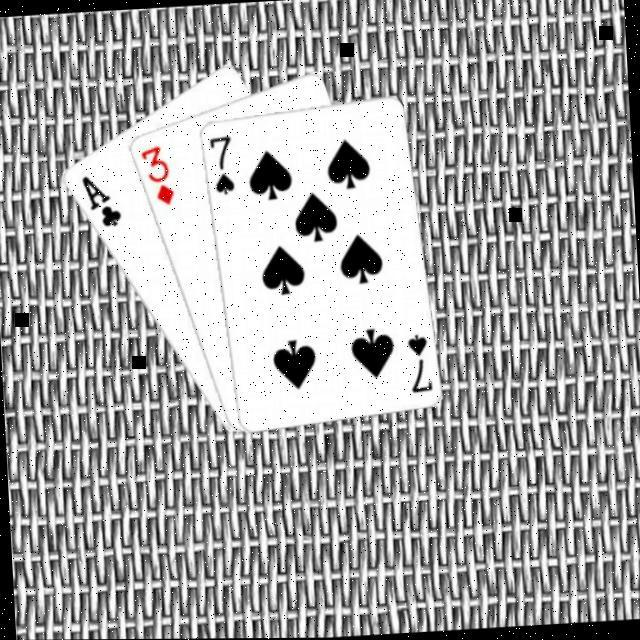3D: (138, 139, 179, 207)
7S: (207, 131, 238, 196), (406, 329, 437, 394)
AC: (79, 168, 126, 229)
